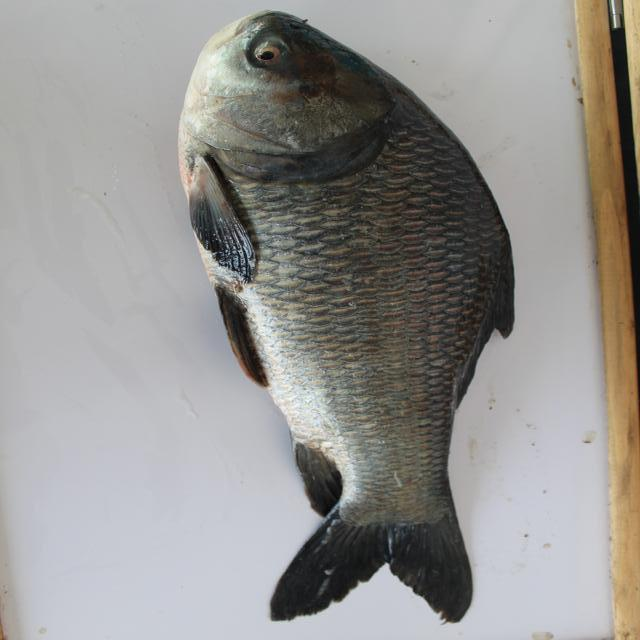Indian Carp: (171, 0, 516, 623)
